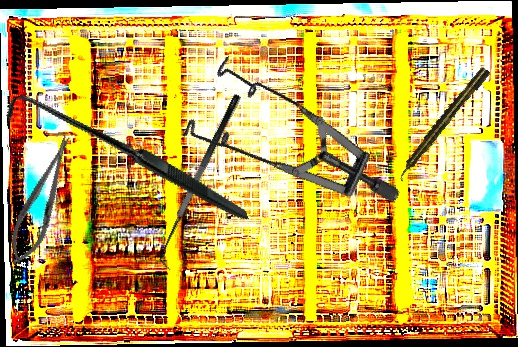Handpiece: (393, 65, 492, 183)
Hook Surgical: (1, 33, 249, 289)
Needle Holder: (0, 129, 84, 272)
Spatula Surgical: (148, 92, 256, 272)
Speculum: (158, 15, 404, 279)
